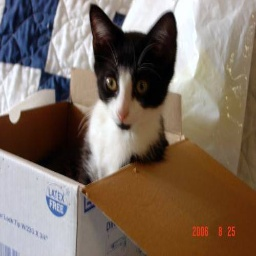cat: (73, 4, 179, 193)
